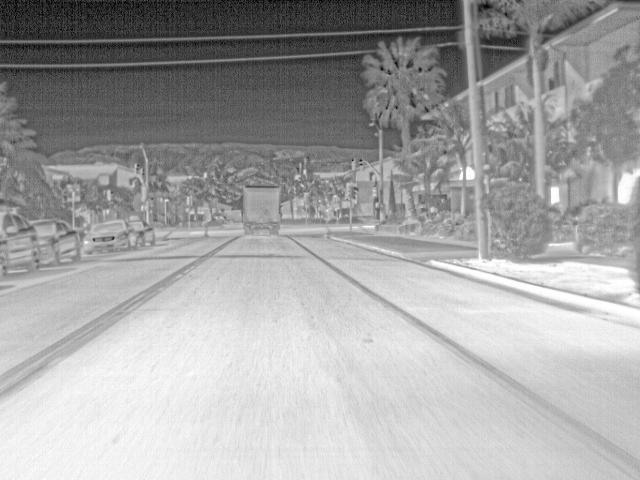car: (0, 212, 45, 277), (35, 216, 84, 265), (83, 218, 133, 256), (127, 220, 157, 248)
person: (200, 214, 216, 238)
